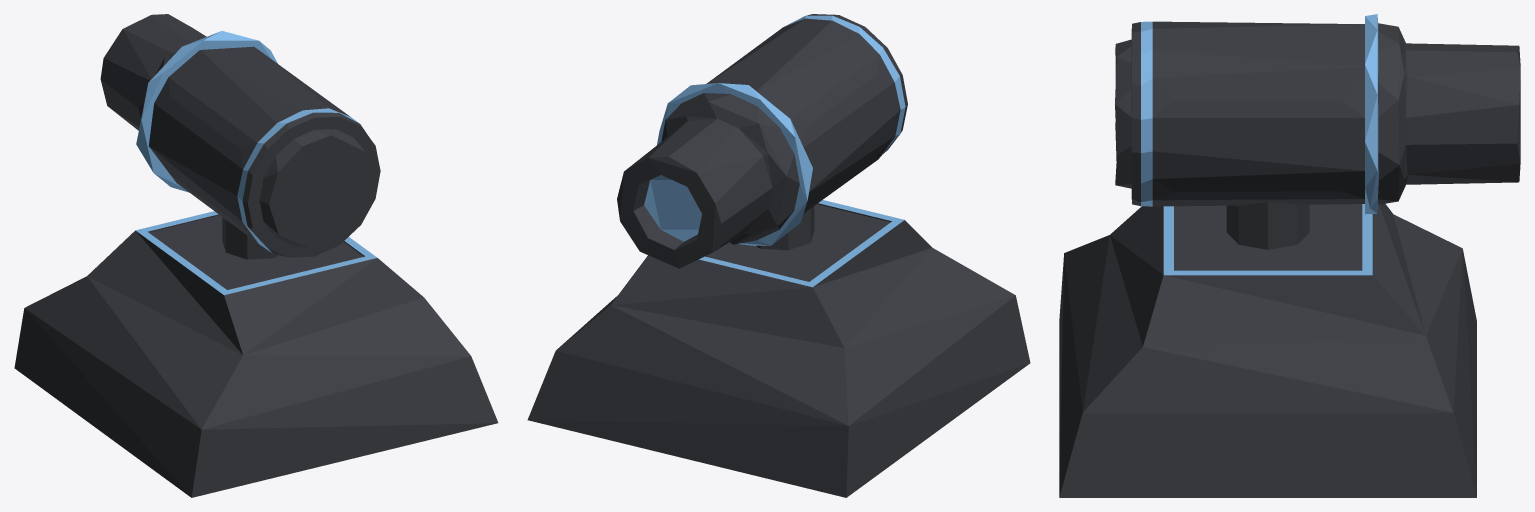
Rendered from CannonLvl1.glb.
The picture shows the model from 3 angles, left to right: view 1: azimuth 30°, elevation 25°; view 2: azimuth 150°, elevation 25°; view 3: azimuth 270°, elevation 25°; orthographic projection. The views are drawn at different scales.
Visible parts, largest first — view 1: Base, Cannon; view 2: Base, Cannon; view 3: Base, Cannon.
Boxes of the visible parts, box(x1,y1,x2,y2) form: Base: box(14, 211, 498, 497); Cannon: box(100, 14, 380, 257); Base: box(527, 200, 1030, 497); Cannon: box(617, 14, 907, 268); Base: box(1059, 202, 1476, 497); Cannon: box(1115, 14, 1520, 214).
Size of the model in its own units: 10.06 by 10.27 by 11.11.
